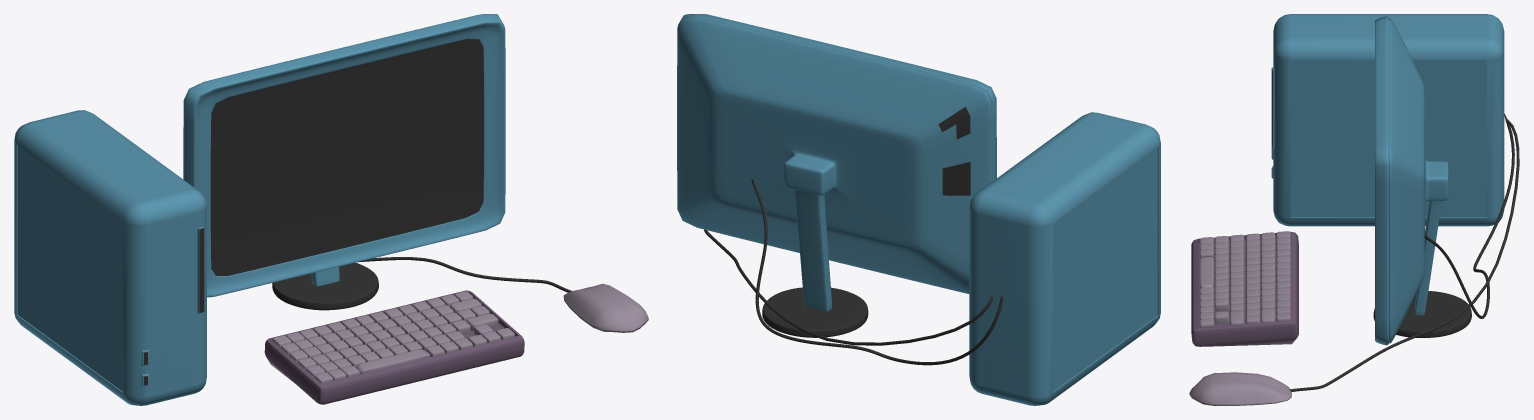
The model's file is THIS TIMEEEJNEJEJ.fbx.
The picture shows the model from 3 angles, left to right: view 1: azimuth 30°, elevation 25°; view 2: azimuth 150°, elevation 25°; view 3: azimuth 270°, elevation 25°; orthographic projection. The views are drawn at different scales.
Parts seen in each view (by area): view 1: polySurface395; view 2: polySurface395; view 3: polySurface395.
Boxes of the visible parts, bbox=[...] form: polySurface395: bbox=[14, 14, 648, 405]; polySurface395: bbox=[677, 14, 1160, 405]; polySurface395: bbox=[1189, 14, 1519, 405].
Bounding box in the file's own units: 2.21 × 1.12 × 1.42.
